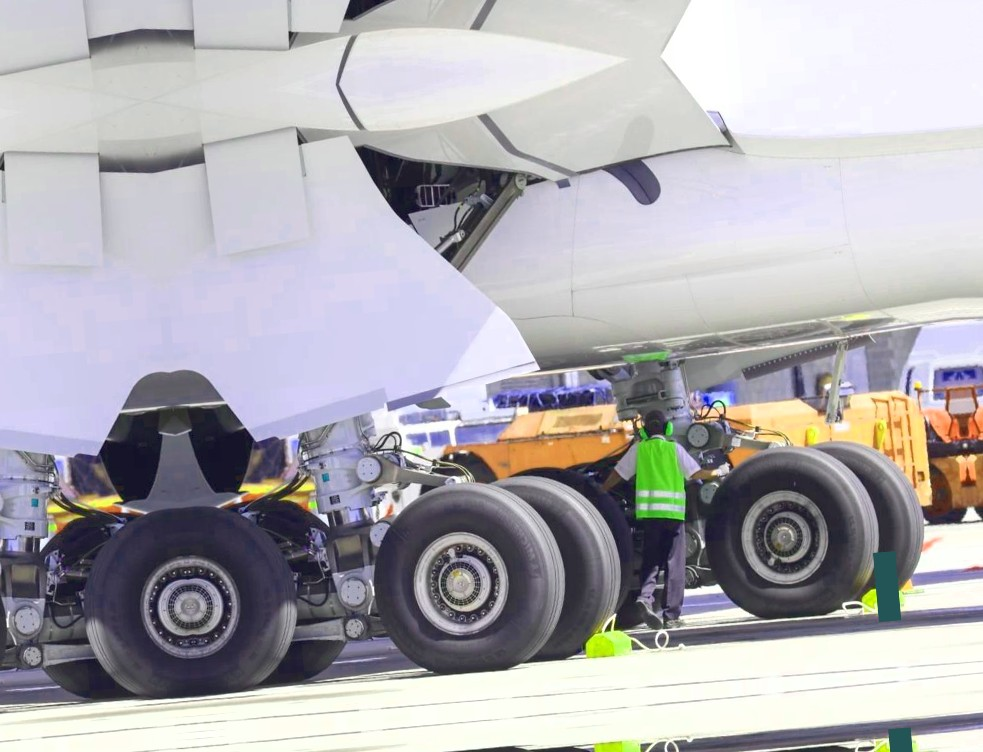chock: (581, 623, 635, 662), (858, 584, 907, 616), (871, 735, 920, 752), (591, 737, 645, 752)
wheel: (366, 471, 581, 676), (696, 437, 886, 622), (474, 465, 632, 663), (27, 508, 158, 704), (220, 492, 351, 687), (181, 497, 309, 690), (70, 507, 197, 699), (802, 433, 932, 604), (429, 449, 499, 492), (919, 465, 969, 525)
